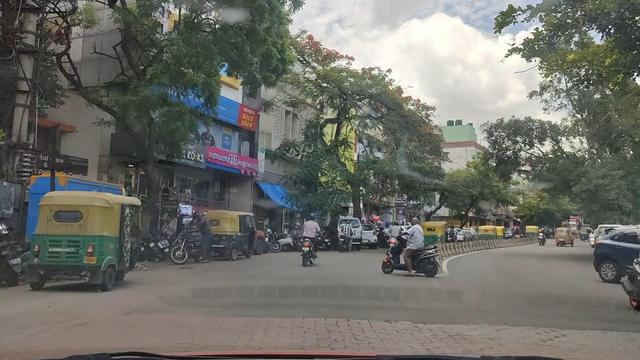LMV: (29, 196, 144, 294), (378, 223, 440, 279), (296, 210, 332, 270)
SpeedBump: (49, 308, 400, 360)
